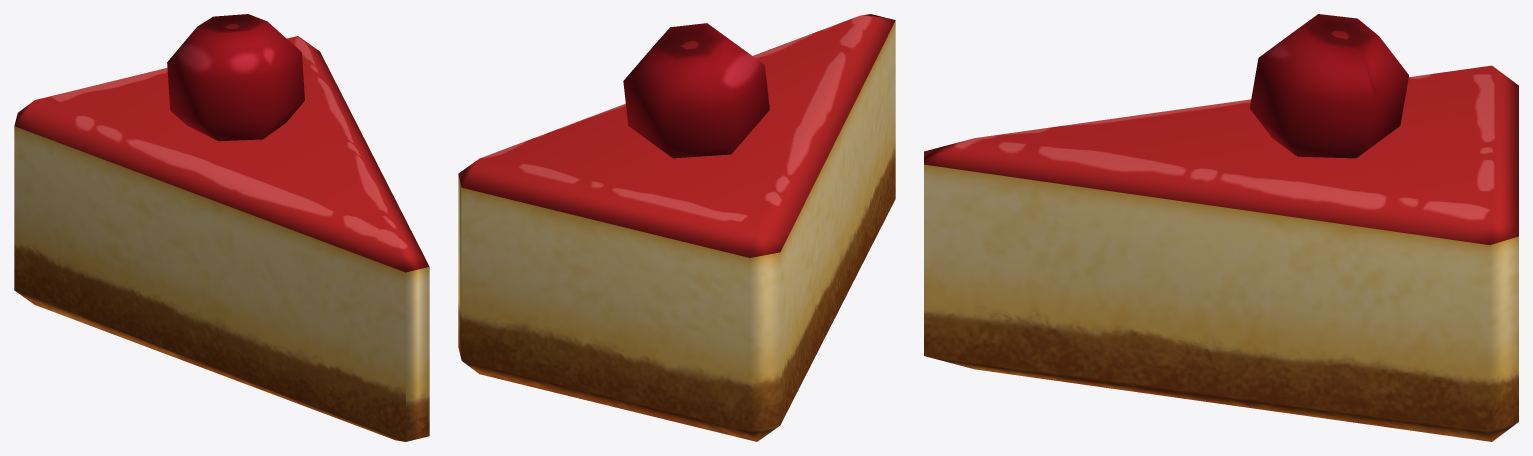
Rendered from Cherry_Cheesecake_Slice.fbx.
3 views of the same model, side by side, from view 1: azimuth 30°, elevation 25°; view 2: azimuth 150°, elevation 25°; view 3: azimuth 270°, elevation 25° (orthographic). The views are drawn at different scales.
Visible parts, largest first — view 1: Cherry_Cheesecake_Slice; view 2: Cherry_Cheesecake_Slice; view 3: Cherry_Cheesecake_Slice.
Boxes of the visible parts, left/top/right/bottom form: Cherry_Cheesecake_Slice: left=14, top=14, right=429, bottom=441; Cherry_Cheesecake_Slice: left=458, top=14, right=895, bottom=441; Cherry_Cheesecake_Slice: left=924, top=14, right=1518, bottom=441.
Bounding box in the file's own units: 26.02 × 24.66 × 38.81.
